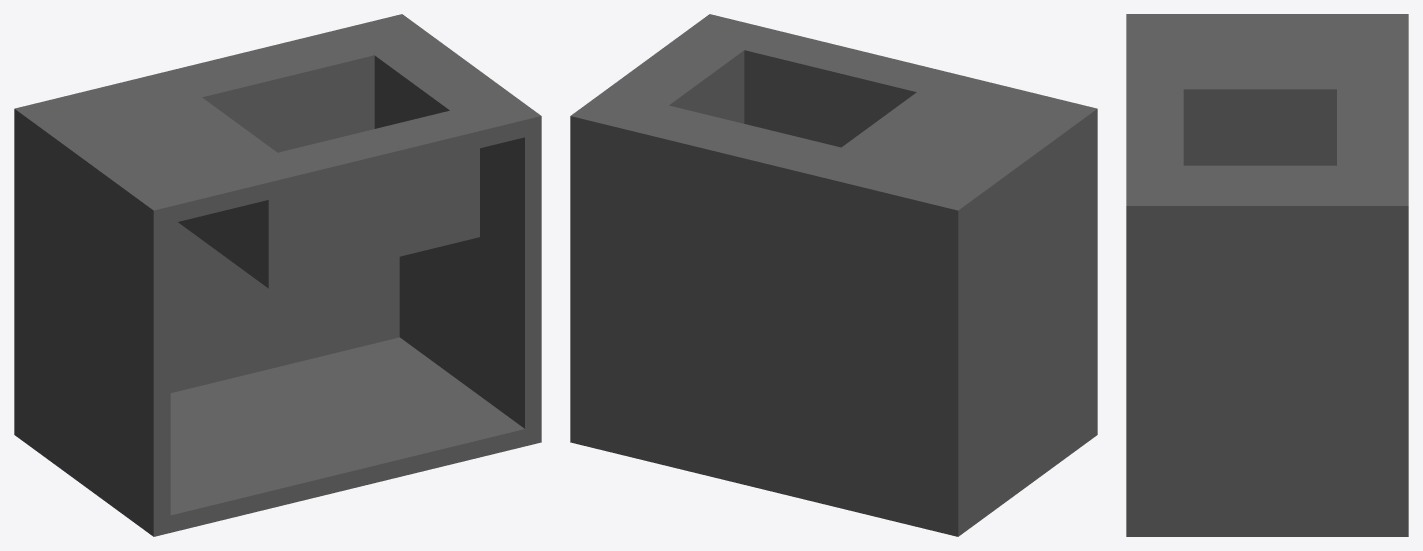
Rendered from Itr_Sink_Body_01.FBX.
3 renders of one model, left to right at view 1: azimuth 30°, elevation 25°; view 2: azimuth 150°, elevation 25°; view 3: azimuth 270°, elevation 25°, orthographic.
Visible parts, largest first — view 1: Itr_Sink_Body_01; view 2: Itr_Sink_Body_01; view 3: Itr_Sink_Body_01.
Part boxes in pixels (x1=…): Itr_Sink_Body_01: x1=14, y1=14, x2=541, y2=536; Itr_Sink_Body_01: x1=570, y1=14, x2=1097, y2=536; Itr_Sink_Body_01: x1=1126, y1=14, x2=1408, y2=536.
Bounding box in the file's own units: 37.68 × 30.31 × 23.45.
